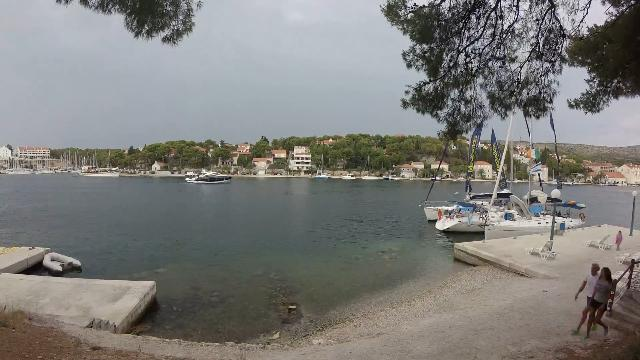speedboat: (182, 158, 236, 188)
